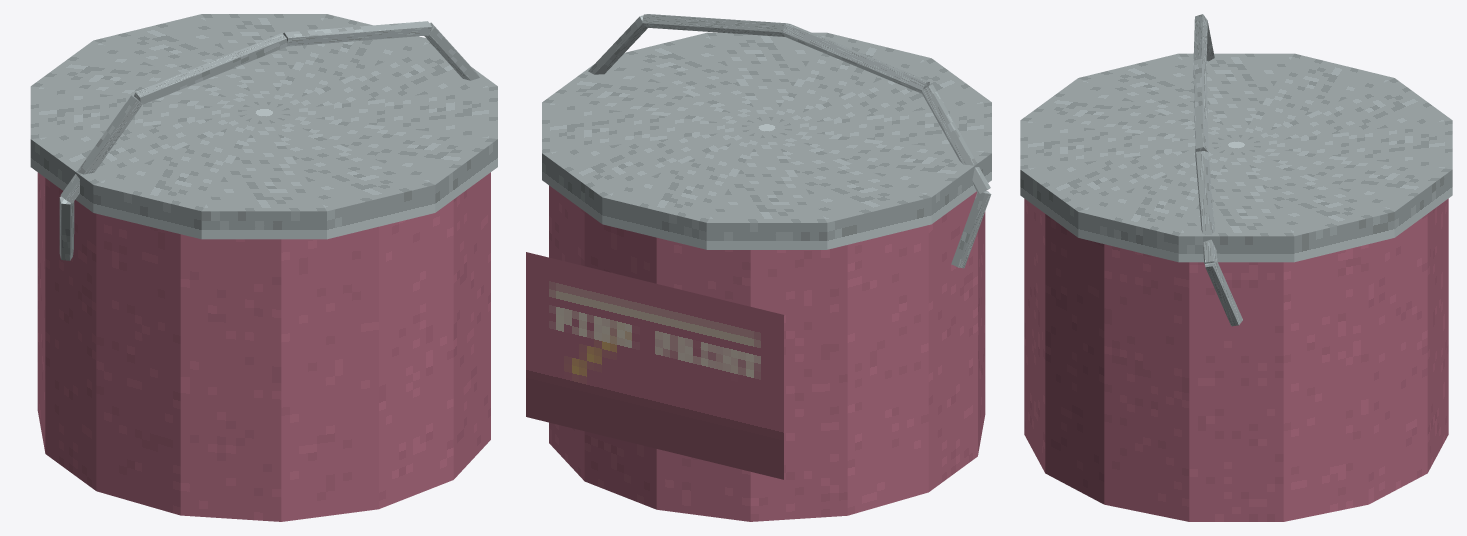
Rendered from paint_pink.glb.
The picture shows the model from 3 angles, left to right: view 1: azimuth 30°, elevation 25°; view 2: azimuth 150°, elevation 25°; view 3: azimuth 270°, elevation 25°; orthographic projection. The views are drawn at different scales.
Visible parts, largest first — view 1: block_body, block_paint bucket lid, block_wire carry bail 2, block_wire carry bail 3, block_wire carry bail 1, block_wire carry bail 4, block_wire carry bail 0; view 2: block_body, block_paint bucket lid, block_paint label, block_wire carry bail 2, block_wire carry bail 3, block_wire carry bail 1, block_wire carry bail 0, block_wire carry bail 4; view 3: block_body, block_paint bucket lid, block_wire carry bail 4, block_wire carry bail 3, block_wire carry bail 5, block_wire carry bail 2.
Boxes of the visible parts, x1,y1,x2,y2 form: block_body: (37,172,490,521); block_paint bucket lid: (30,14,497,239); block_wire carry bail 2: (134,33,287,104); block_wire carry bail 3: (283,21,431,46); block_wire carry bail 1: (60,95,142,203); block_wire carry bail 4: (424,22,479,80); block_wire carry bail 0: (59,196,74,260); block_body: (549,185,985,521); block_paint bucket lid: (542,32,991,249); block_paint label: (526,252,783,479); block_wire carry bail 2: (782,23,929,93); block_wire carry bail 3: (642,14,788,36); block_wire carry bail 1: (921,84,990,193); block_wire carry bail 0: (951,191,991,268); block_wire carry bail 4: (588,15,647,74); block_body: (1024,198,1448,521); block_paint bucket lid: (1020,53,1452,262); block_wire carry bail 4: (1195,151,1217,264); block_wire carry bail 3: (1193,58,1208,152); block_wire carry bail 5: (1205,260,1242,326); block_wire carry bail 2: (1193,14,1207,63).
Size of the model in its own units: 0.2967 by 0.2663 by 0.276.
2 materials, 2 textured.
